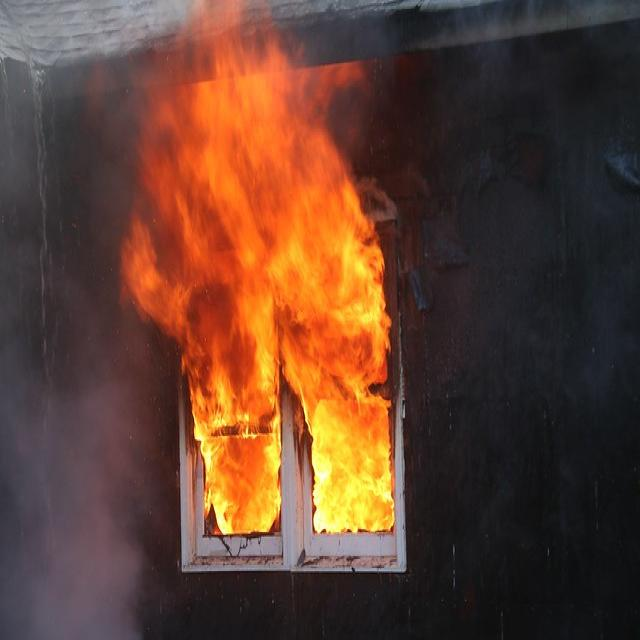fire: (158, 24, 396, 536)
smoke: (2, 61, 123, 640)
